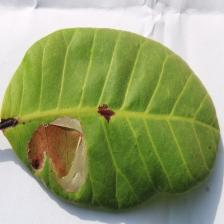leaf miner: (0, 27, 221, 213)
